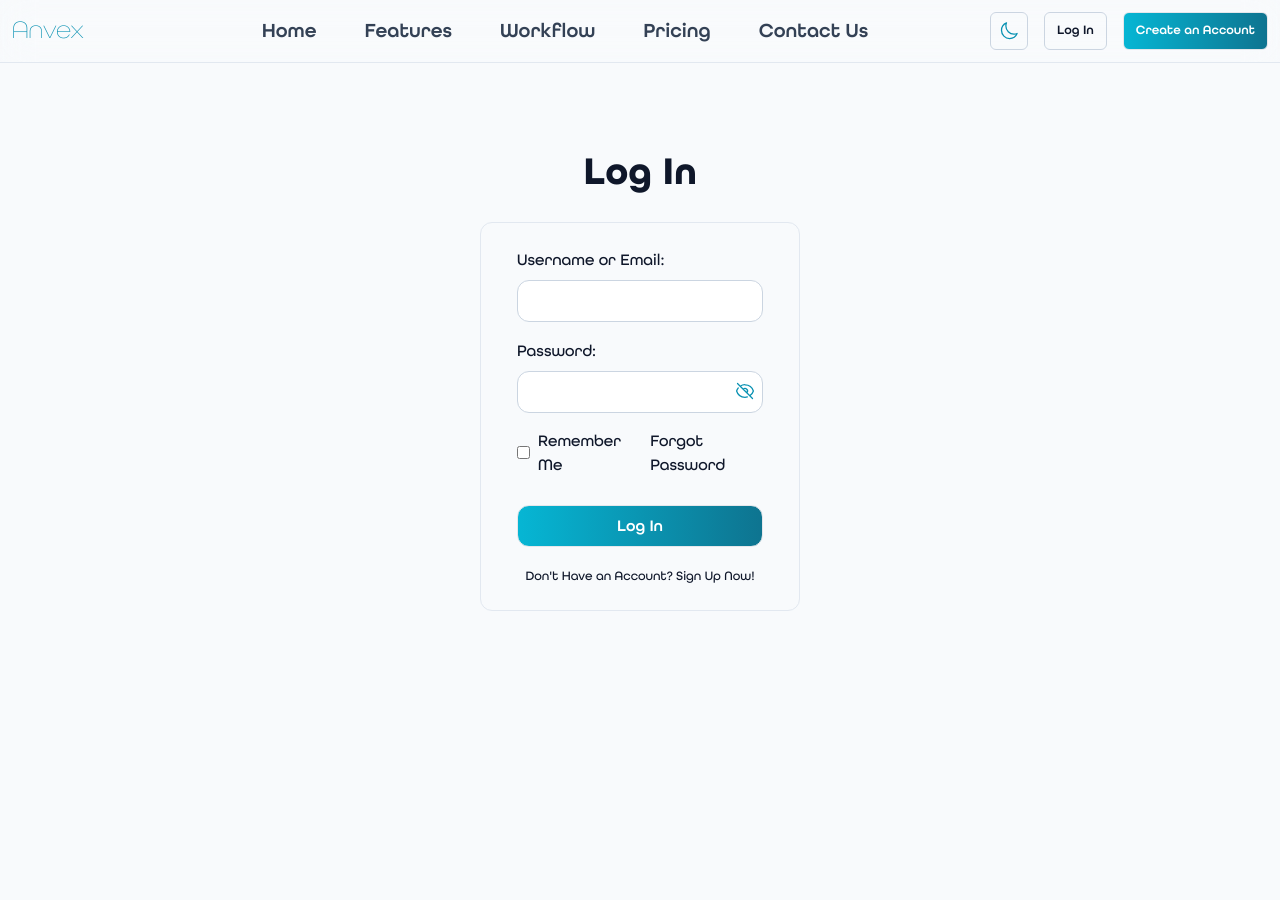
submitting › reports a transport failure the same way, because it is the same ApiError
Expected: the element with test id "route-login" is shown, left=480, top=148, right=800, bottom=611
In the field labelled "Username or Email:": (640, 301) left=517, top=280, right=763, bottom=322, type "ada"
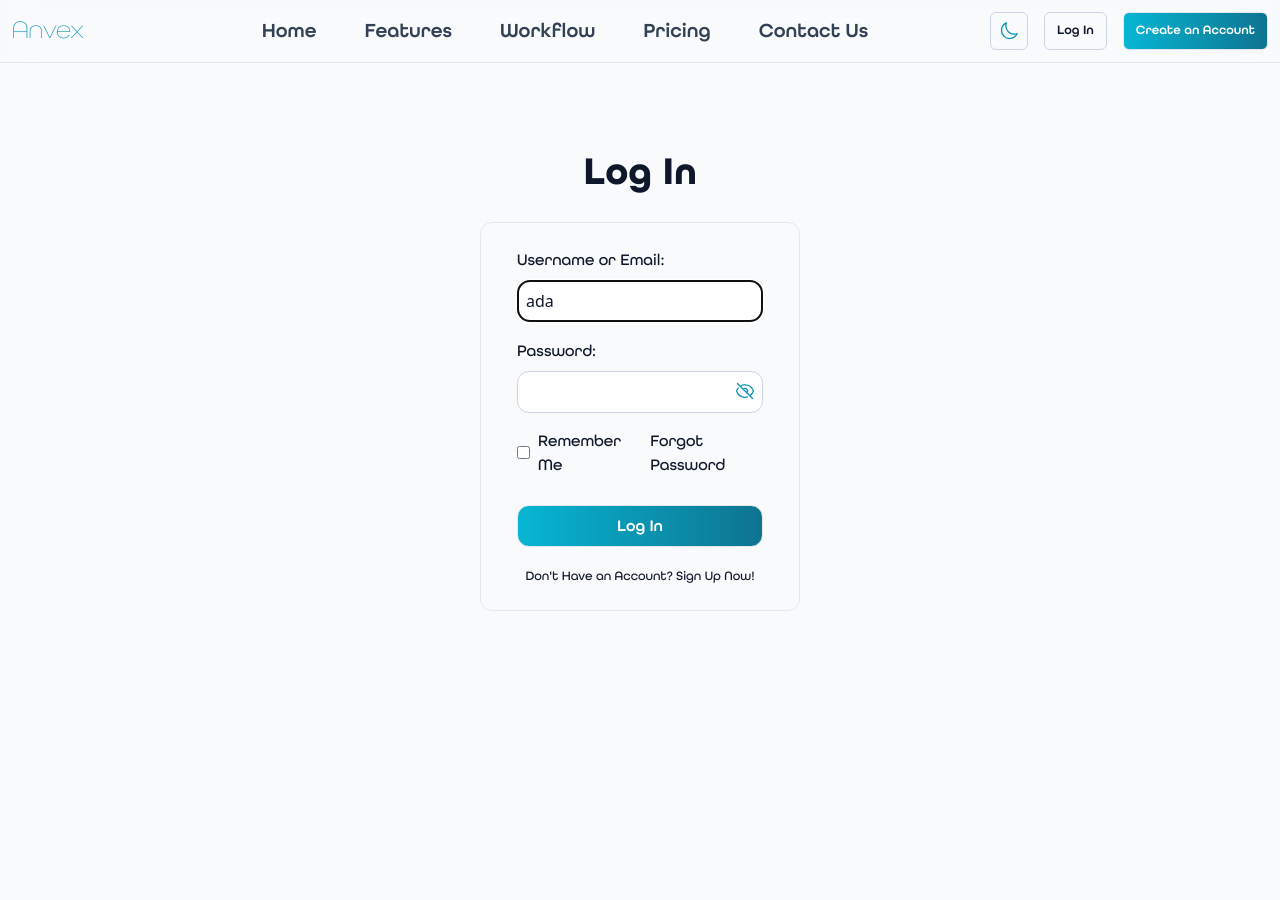
In the password field labelled "Password:": (640, 392) left=517, top=371, right=763, bottom=413, type "hunter2"
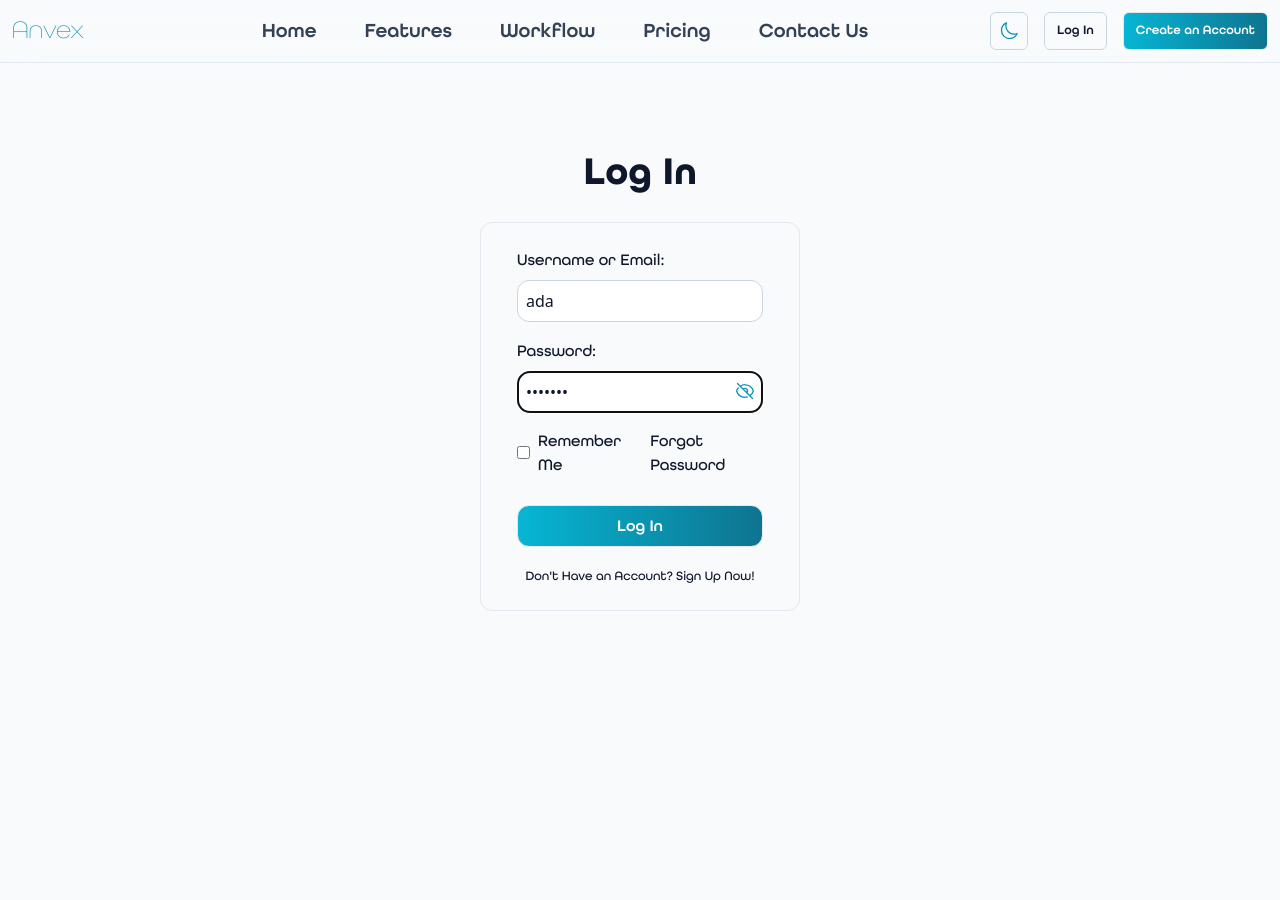
Click the button "Log In": (640, 526) left=517, top=505, right=763, bottom=547
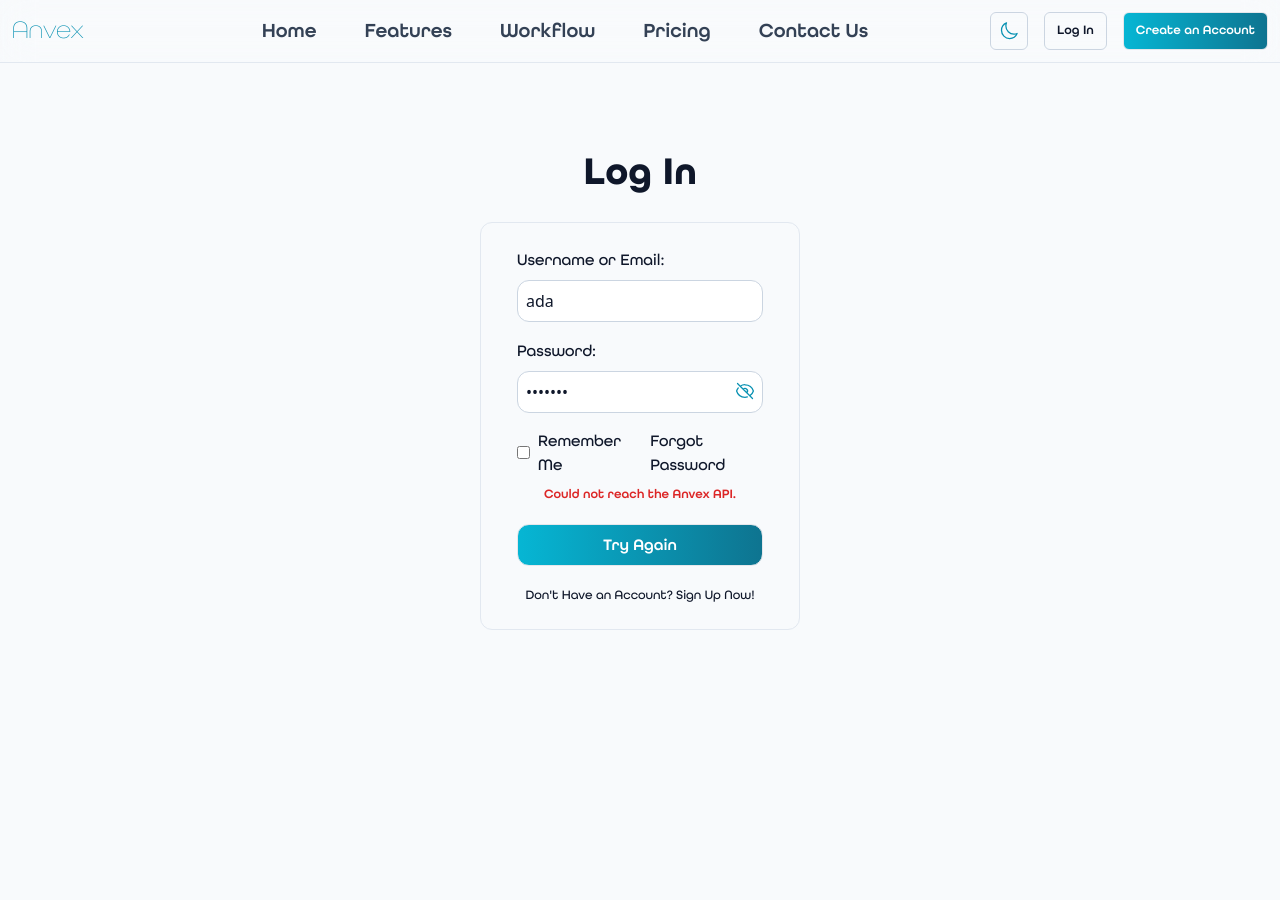
Now the text "Could not reach the Anvex API." is shown, box left=544, top=486, right=736, bottom=502
Now the button "Try Again" is shown, box left=517, top=524, right=763, bottom=566
